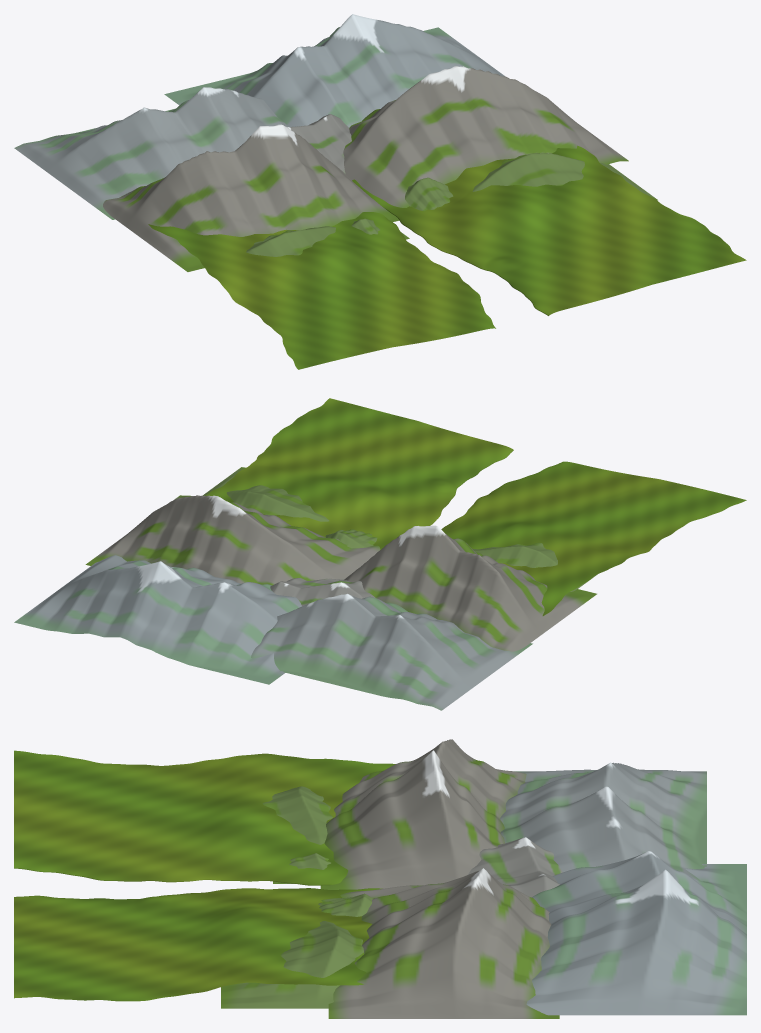
File: alpine-terrain-v1b.glb
The picture shows the model from 3 angles, top to bottom: view 1: azimuth 30°, elevation 25°; view 2: azimuth 150°, elevation 25°; view 3: azimuth 270°, elevation 25°; orthographic projection. The views are drawn at different scales.
Parts seen in each view (by area): view 1: east-bank, west-bank, east-alpine-massif, west-alpine-massif, distant-east, distant-west, east-meadow-shoulder, middle-saddle, west-meadow-shoulder, valley-east-foothill; view 2: east-bank, west-bank, distant-east, distant-west, west-alpine-massif, east-alpine-massif, east-meadow-shoulder, middle-saddle, west-meadow-shoulder, valley-east-foothill; view 3: west-bank, east-bank, distant-east, east-alpine-massif, west-alpine-massif, distant-west, east-meadow-shoulder, middle-saddle, west-meadow-shoulder, valley-east-foothill, valley-west-foothill.
Boxes of the visible parts, <box> form: east-bank: <box>352,145,746,315</box>; west-bank: <box>148,212,495,369</box>; east-alpine-massif: <box>343,66,628,207</box>; west-alpine-massif: <box>103,124,399,271</box>; distant-east: <box>164,14,504,127</box>; distant-west: <box>14,87,288,219</box>; east-meadow-shoulder: <box>472,153,657,200</box>; middle-saddle: <box>287,114,351,173</box>; west-meadow-shoulder: <box>246,226,335,256</box>; valley-east-foothill: <box>405,177,453,211</box>; east-bank: <box>205,398,513,549</box>; west-bank: <box>441,461,746,615</box>; distant-east: <box>14,555,301,684</box>; distant-west: <box>251,593,532,710</box>; west-alpine-massif: <box>344,525,596,651</box>; east-alpine-massif: <box>85,495,380,585</box>; east-meadow-shoulder: <box>203,467,329,521</box>; middle-saddle: <box>270,578,375,606</box>; west-meadow-shoulder: <box>472,542,597,591</box>; valley-east-foothill: <box>325,529,377,548</box>; west-bank: <box>14,750,395,885</box>; east-bank: <box>14,888,382,1001</box>; distant-east: <box>526,851,746,1015</box>; east-alpine-massif: <box>328,868,559,1018</box>; west-alpine-massif: <box>320,739,526,889</box>; distant-west: <box>500,762,706,880</box>; east-meadow-shoulder: <box>221,921,363,1008</box>; middle-saddle: <box>467,837,562,897</box>; west-meadow-shoulder: <box>262,786,332,844</box>; valley-east-foothill: <box>318,893,374,916</box>; valley-west-foothill: <box>273,853,330,883</box>.
Size of the model in its own units: 154 by 25.01 by 184.
